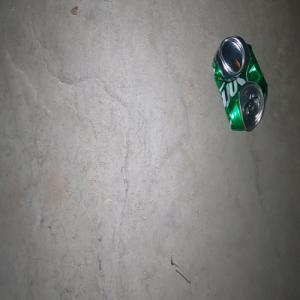SodaCan: (211, 35, 267, 132)
